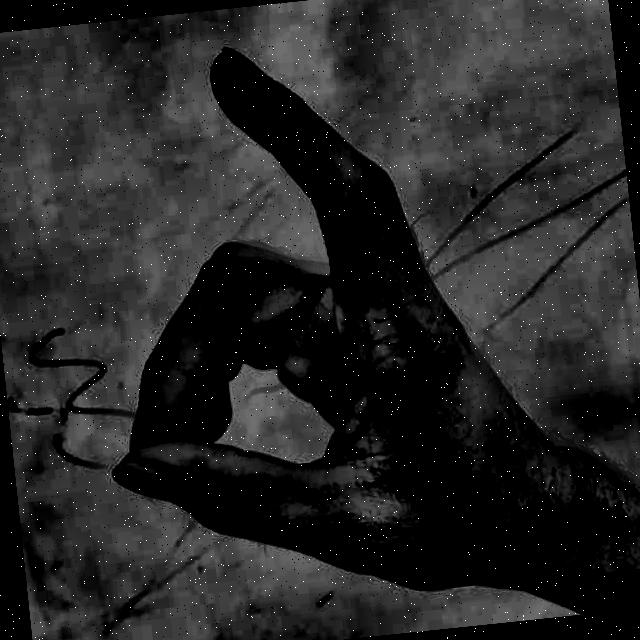Dha: (55, 0, 584, 640)
